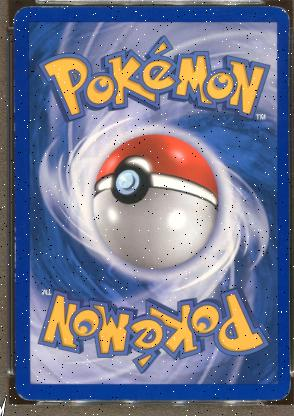Card: (12, 1, 290, 402)
Corner Wear: (267, 6, 289, 20), (264, 392, 287, 400), (16, 394, 39, 401), (12, 9, 20, 24)
Edge Wear: (39, 398, 144, 400), (13, 222, 16, 284), (13, 76, 15, 158), (285, 25, 287, 87), (22, 6, 69, 8), (288, 378, 289, 390), (14, 362, 16, 366), (14, 386, 16, 390)
